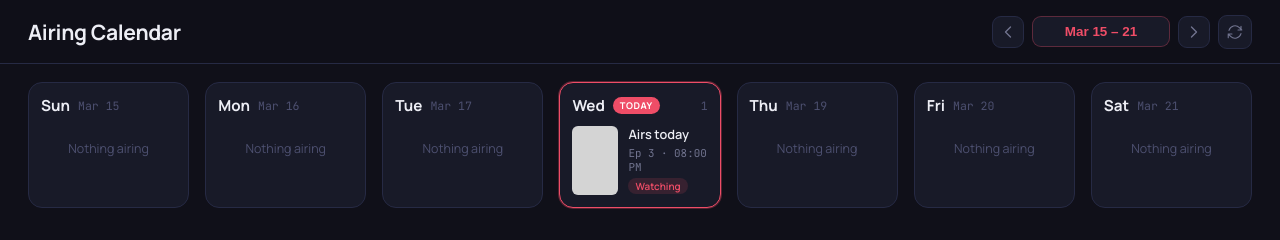
Test: CalendarView — today column detection (JS-driven todayPos) › flags exactly the column for the real date, and clears it when paging off the visible week
Expected: the text with class "today-tag" reads "Today", [620,99,653,112]
Expected: the text with class "cal-dayname" reads "Wed", [572,95,605,116]
# Page forward one week: today is no longer on the page, highlight clears.
What coordinates should you click on to do the following:
click the 2nd button with class "icon-btn"
I would click on:
 (1194, 32)
Its box is [1178,16,1210,48].
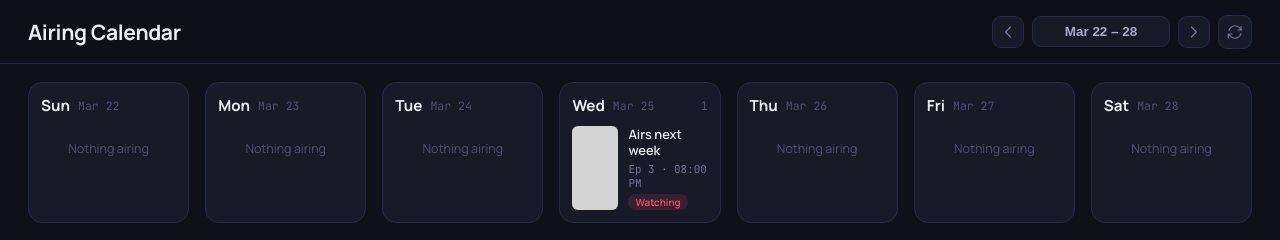
Expected: the element with class "cal-col" showing "Sun Mar 22 Nothing airing" is shown, [28,82,189,223]
Expected: no pictures with class "today" are shown
